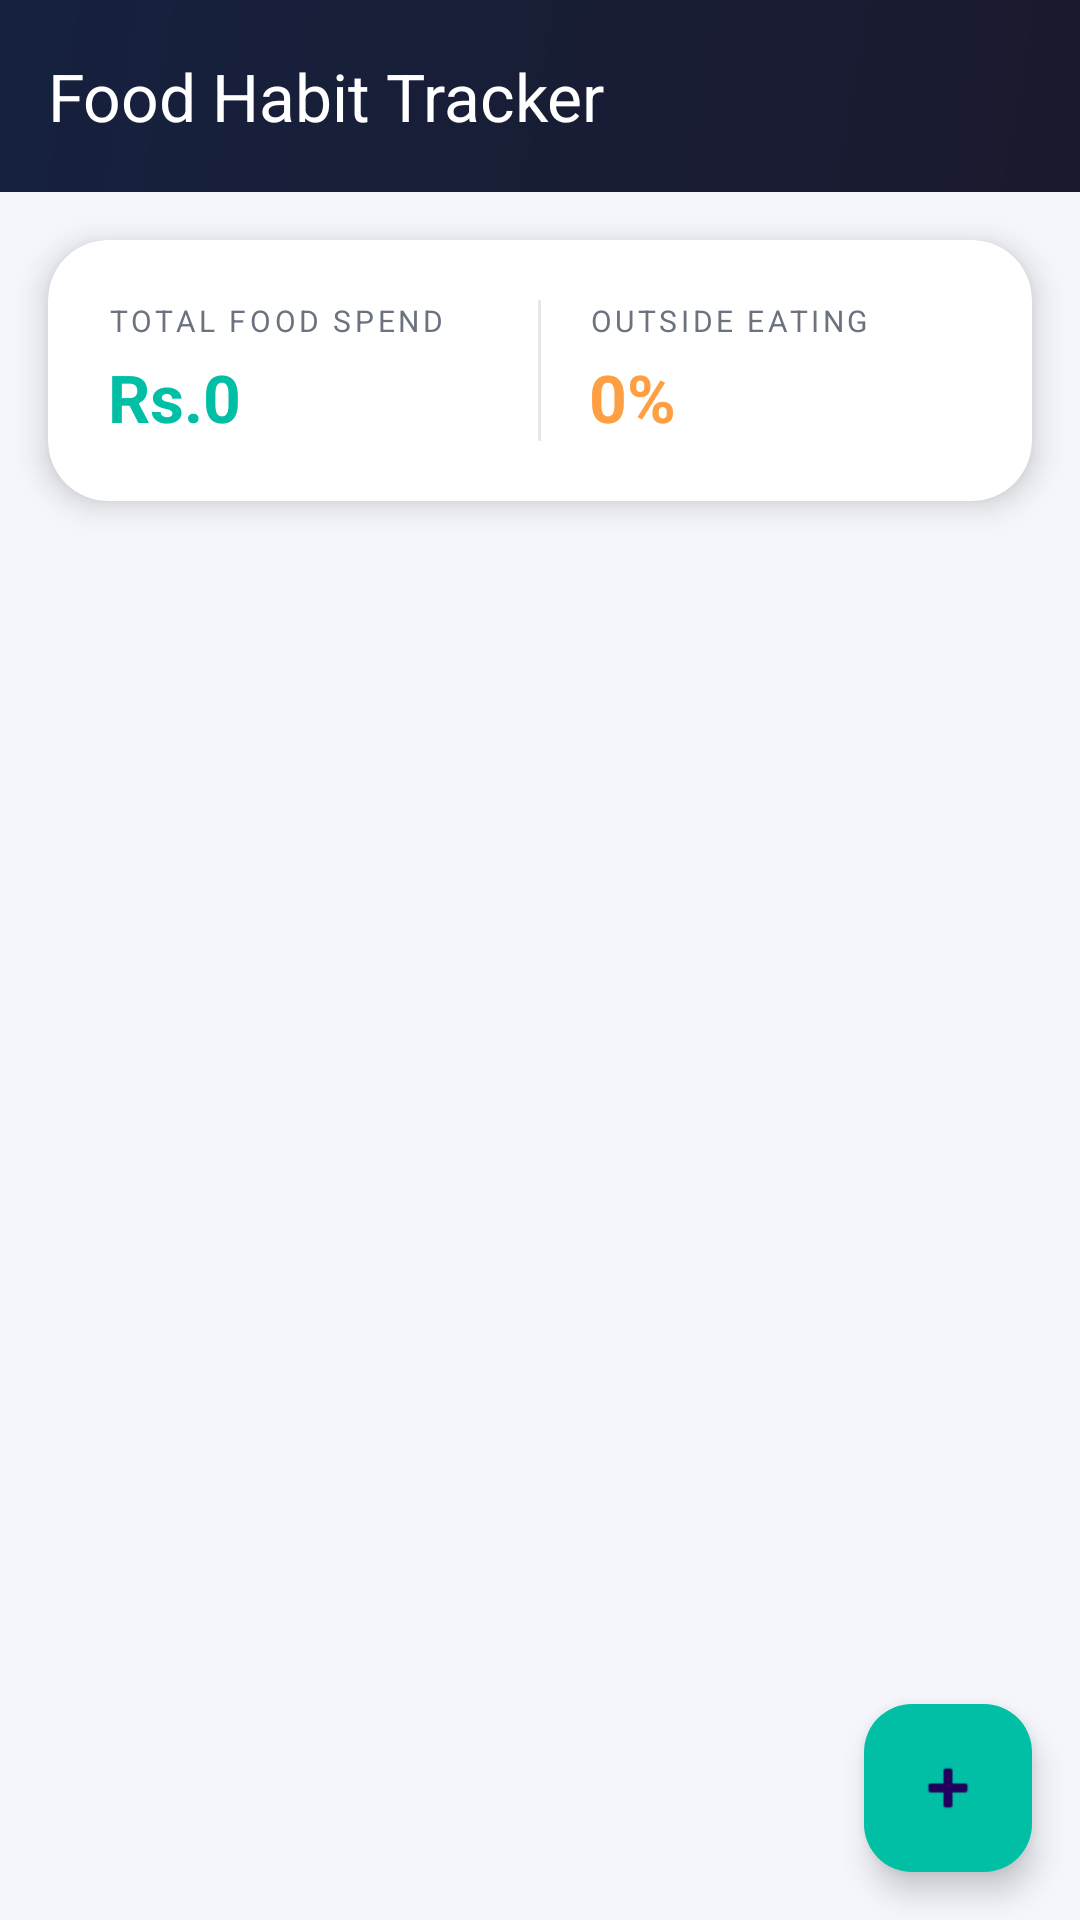

Locate icon controls on the screen. Image size 1080 x 1920, boxes as [x1, y1, x2, y2].
Add Food: [864, 1704, 1032, 1872]
